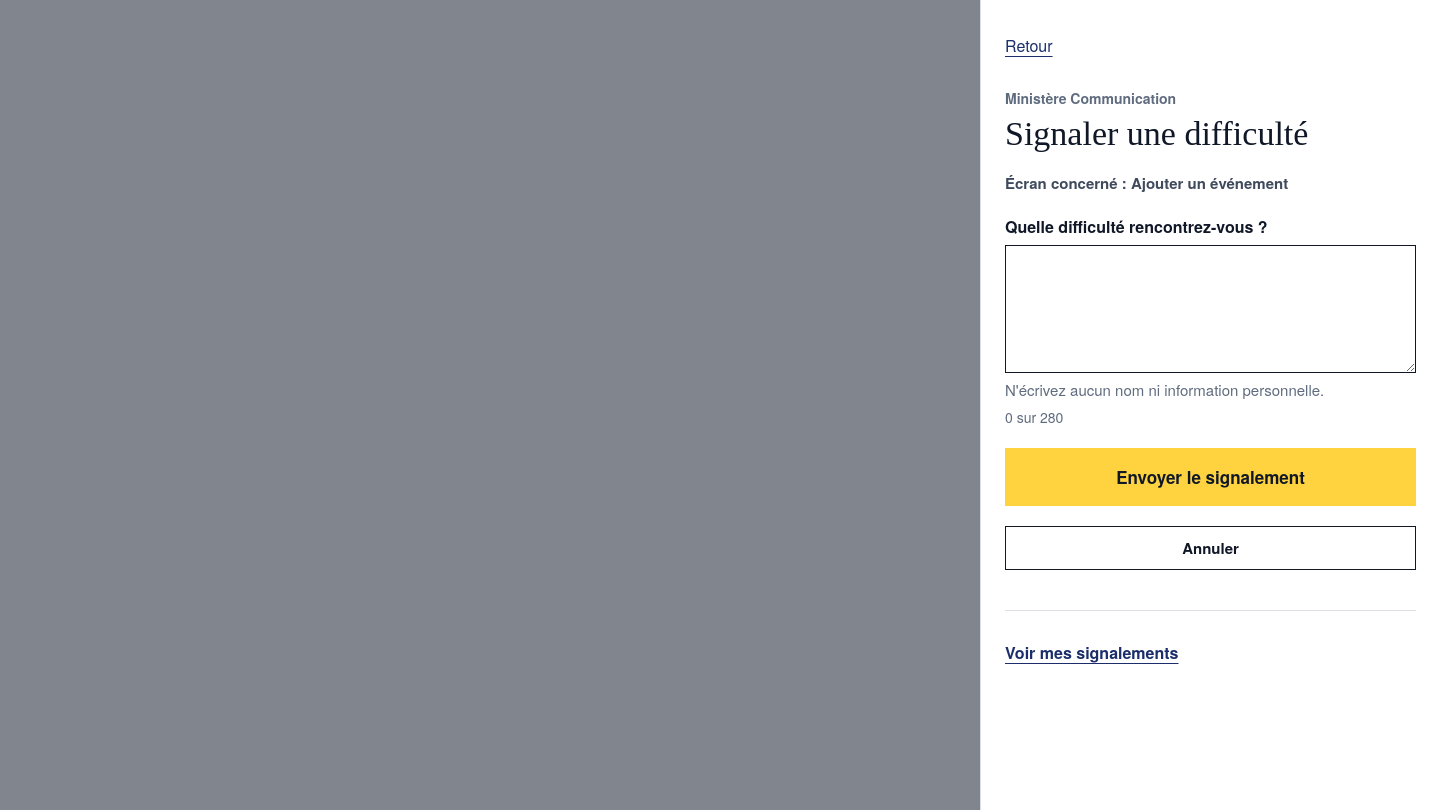
Test: « Signaler une difficulté » › refus de la base (donnée personnelle) : son message sous le champ, texte gardé
This screenshot has width=1440, height=810.
Type "Appelez le 06 12 34 56 78" into the text box labelled "Quelle difficulté rencontrez-vous ?" at point(1210, 309), box [1005,245,1416,373]
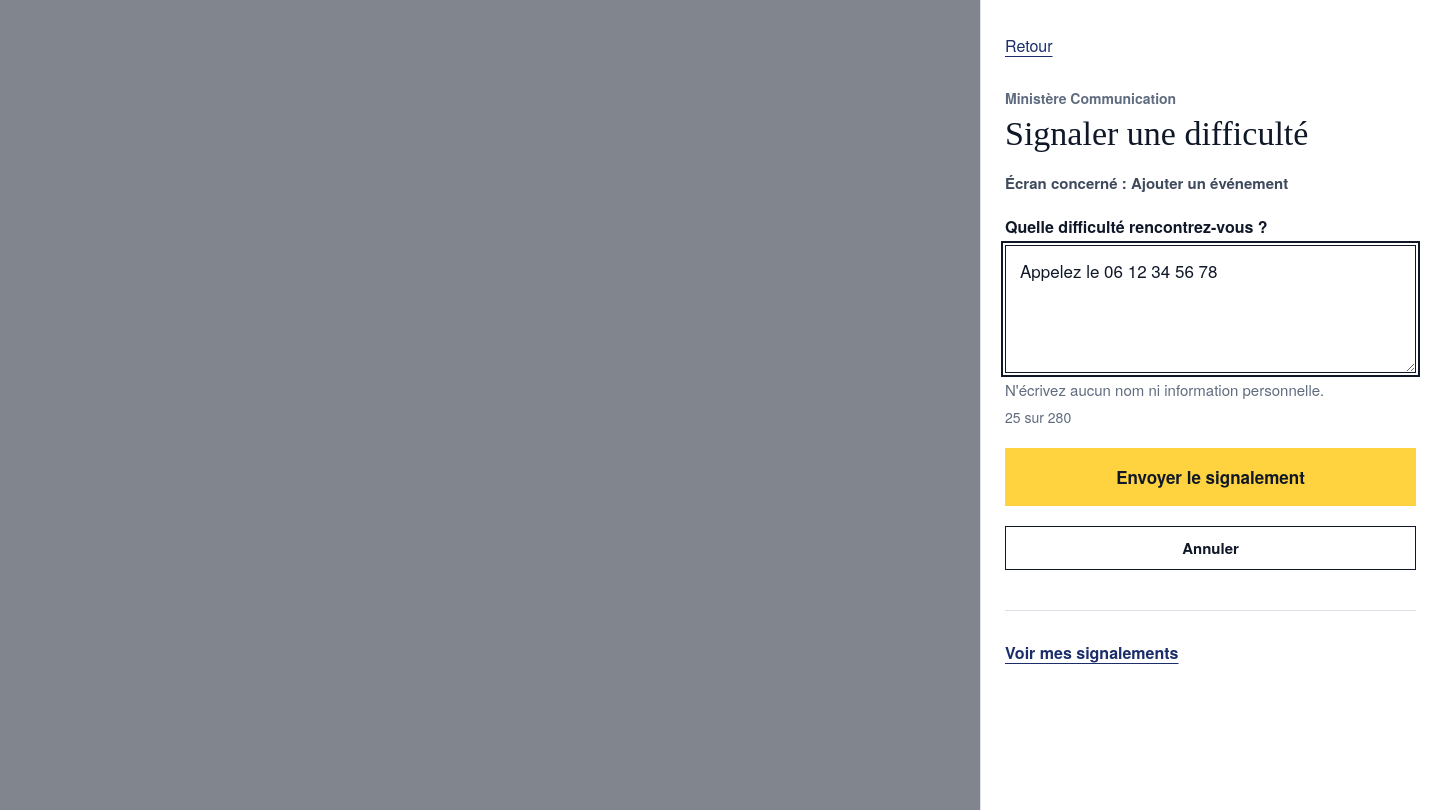
Click the button named "Envoyer le signalement" at point(1210, 477), box [1005,448,1416,506]
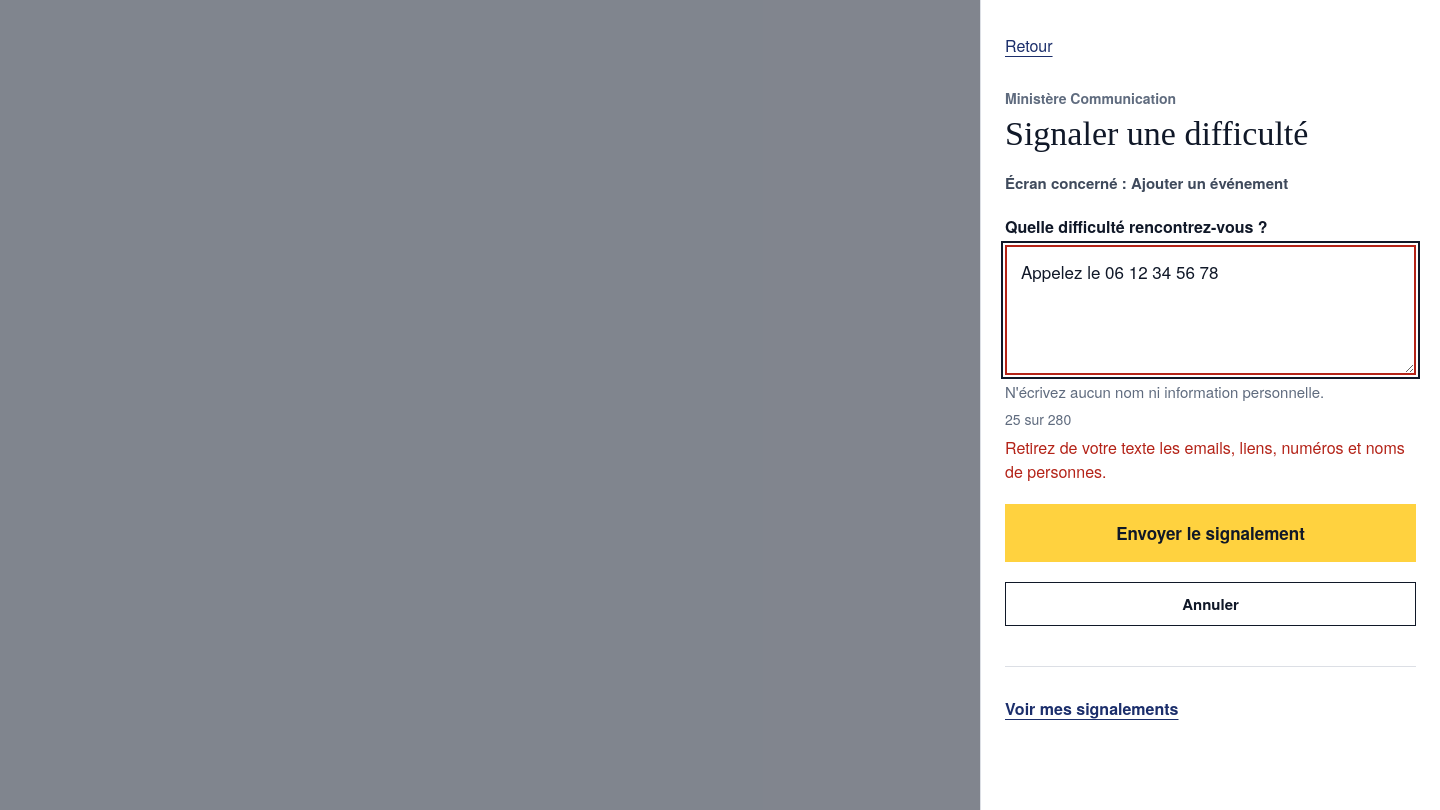
Expected: the text "Retirez de votre texte les emails, liens, numéros et noms de personnes." is shown, [1005,436,1416,484]
